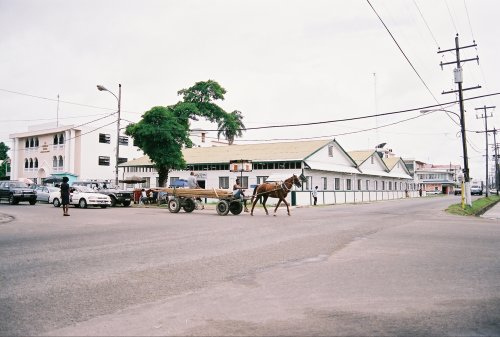horse: (248, 173, 303, 217)
